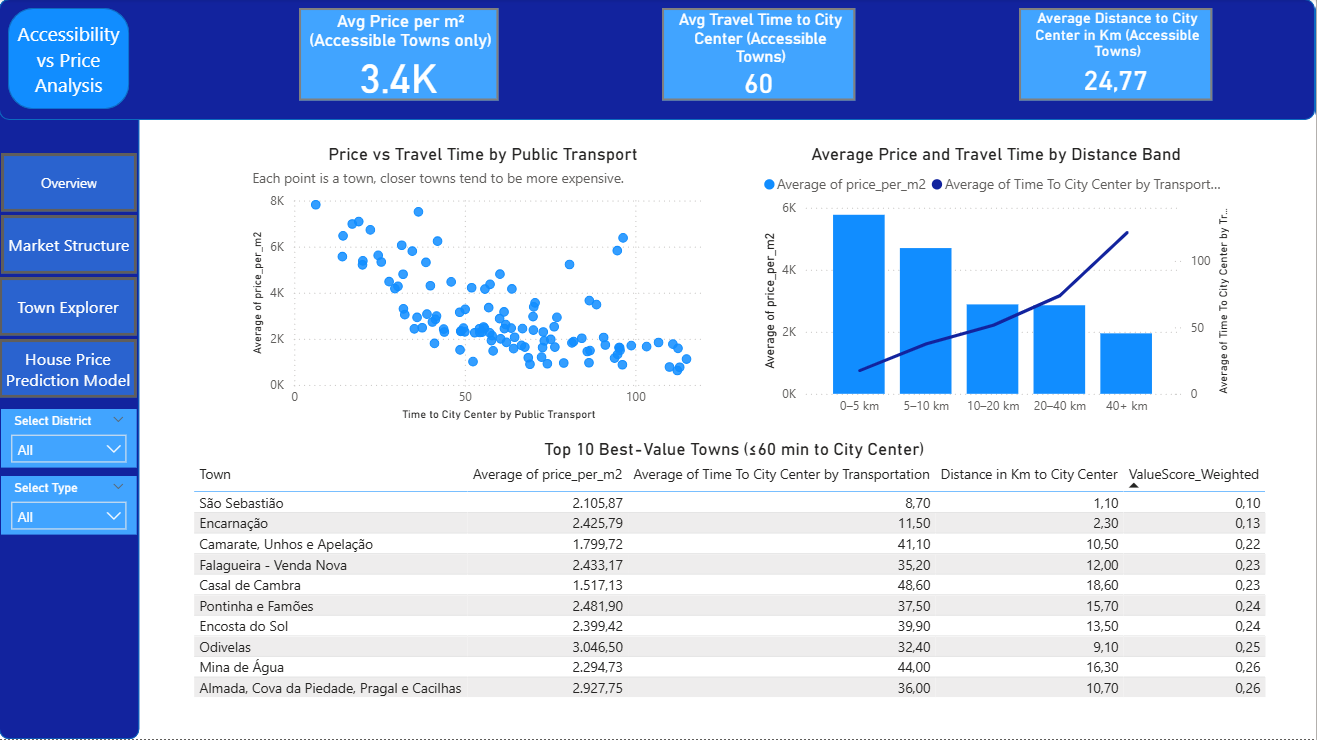

The dashboard page shown, as its layout file describes it:
{"tool":"powerbi","page":{"name":"Accessibility vs Price Analysis","canvas":[1280,720],"ordinal":2},"visuals":[{"type":"shape","box":[0,0.3,136.6,720],"z":0},{"type":"shape","box":[0,0,1280,117.7],"z":1000},{"type":"scatterChart","title":"Price vs Travel Time by Public Transport","fields":{"X":["Sum(housing_with_citycenter_times_final1.travel_min_final)"],"Y":["Avg(housing_with_citycenter_times_final1.price_per_m2)"]},"box":[241.2,141,459.1,273.3],"z":2000},{"type":"lineStackedColumnComboChart","title":"Average Price and Travel Time by Distance Band","fields":{"Category":["housing_with_citycenter_times_final1.DistanceBand"],"Y":["Avg(housing_with_citycenter_times_final1.price_per_m2)"],"Y2":["Avg(housing_with_citycenter_times_final1.travel_min_final)"]},"box":[738.2,141,463,273.3],"z":3000},{"type":"tableEx","title":"Top 10 Best-Value Towns (≤60 min to City Center)","fields":{"Values":["housing_with_citycenter_times_final1.Town","Avg(housing_with_citycenter_times_final1.price_per_m2)","Avg(housing_with_citycenter_times_final1.travel_min_final)","housing_with_citycenter_times_final1.drive_km_final","housing_with_citycenter_times_final1.ValueScore_Weighted"]},"box":[183.8,428,1062.1,284],"z":7000},{"type":"shape","box":[8.9,8.9,117.9,98.4],"z":9001},{"type":"card","title":"Avg Price per m² (Accessible Towns only)","fields":{"Values":["housing_with_citycenter_times_final1.AvgPrice_Accessible"]},"box":[291.8,8.8,193.6,90.5],"z":9002},{"type":"card","title":"Avg Travel Time to City Center (Accessible Towns)","fields":{"Values":["housing_with_citycenter_times_final1.AvgTime_Accessible1"]},"box":[644.9,8.8,187.7,90.5],"z":9003},{"type":"card","title":"Average Distance to City Center in Km (Accessible Towns)","fields":{"Values":["housing_with_citycenter_times_final1.AvgDistance_Accessible"]},"box":[992.1,8.8,187.7,90.5],"z":9004},{"type":"slicer","fields":{"Values":["housing_with_citycenter_times_final1.District"]},"box":[1.9,398.8,132.3,57.4],"z":9005},{"type":"actionButton","title":"Product Insights","box":[1.9,149.8,132.3,57.4],"z":9008},{"type":"actionButton","title":"Product Insights","box":[1.9,210.1,132.3,57.4],"z":9009},{"type":"actionButton","title":"Product Insights","box":[0,270.4,134.2,57.4],"z":9010},{"type":"actionButton","title":"Product Insights","box":[0,330.7,134.2,57.4],"z":9011},{"type":"slicer","fields":{"Values":["housing_with_citycenter_times_final1.Type"]},"box":[1.9,464,132.3,57.4],"z":9012}]}

Visuals, with their boxes in screenshot pixels (x1, y1, x2, y2), scaled from the page's 1280x720 canvas onto the 1317x740 screenshot:
shape: locate(0, 0, 141, 739)
shape: locate(0, 0, 1316, 121)
"Price vs Travel Time by Public Transport" scatterChart: locate(248, 145, 721, 426)
"Average Price and Travel Time by Distance Band" lineStackedColumnComboChart: locate(760, 145, 1236, 426)
"Top 10 Best-Value Towns (≤60 min to City Center)" tableEx: locate(189, 440, 1282, 732)
shape: locate(9, 9, 130, 110)
"Avg Price per m² (Accessible Towns only)" card: locate(300, 9, 499, 102)
"Avg Travel Time to City Center (Accessible Towns)" card: locate(664, 9, 857, 102)
"Average Distance to City Center in Km (Accessible Towns)" card: locate(1021, 9, 1214, 102)
slicer - housing_with_citycenter_times_final1.District: locate(2, 410, 138, 469)
"Product Insights" actionButton: locate(2, 154, 138, 213)
"Product Insights" actionButton: locate(2, 216, 138, 275)
"Product Insights" actionButton: locate(0, 278, 138, 337)
"Product Insights" actionButton: locate(0, 340, 138, 399)
slicer - housing_with_citycenter_times_final1.Type: locate(2, 477, 138, 536)
